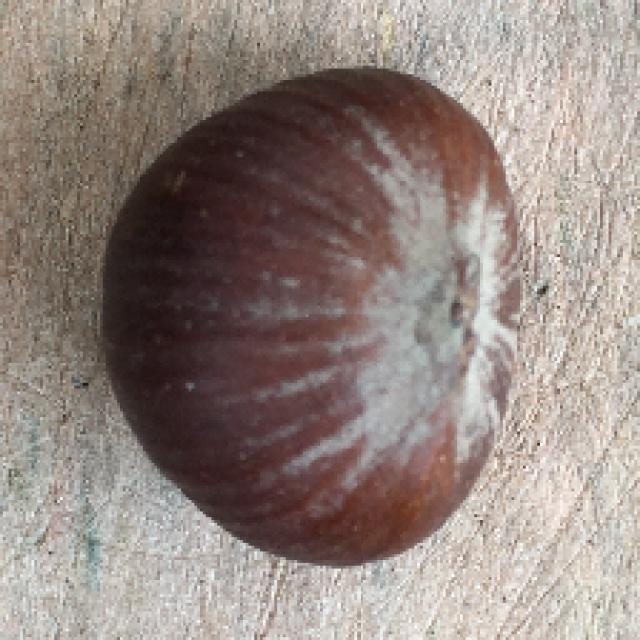qualityHazelnut: (88, 60, 531, 571)
